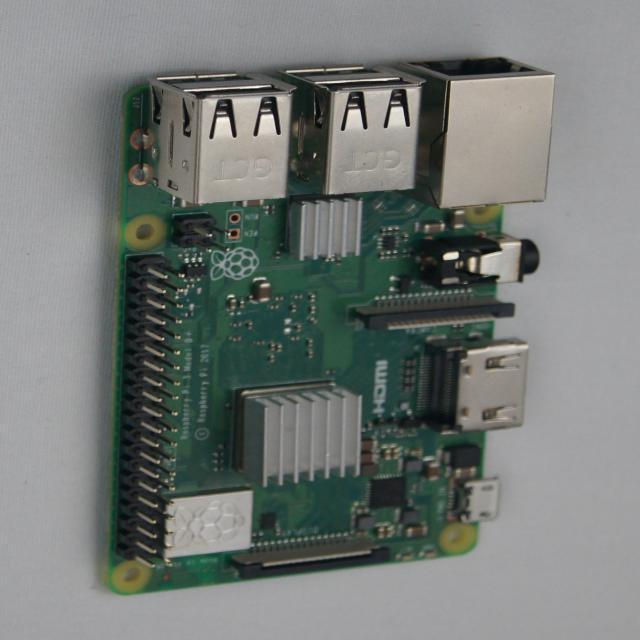Raspberry Pi 3 B-: (111, 58, 555, 594)
